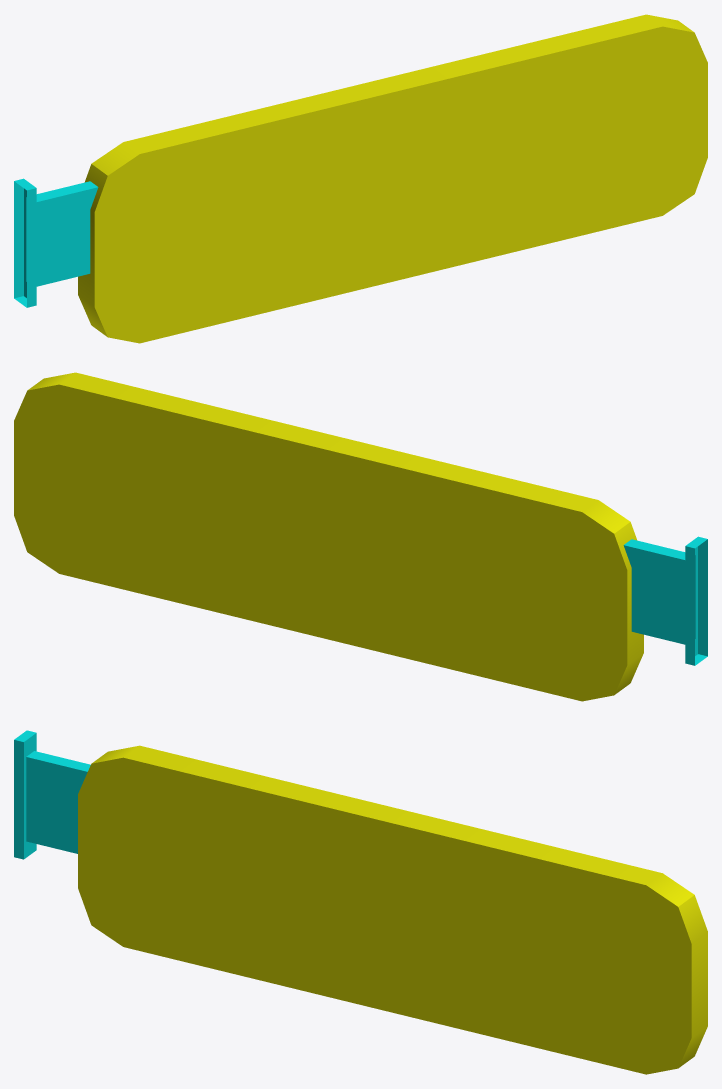
File: StationSign.fbx
3 renders of one model, top to bottom at view 1: azimuth 30°, elevation 25°; view 2: azimuth 150°, elevation 25°; view 3: azimuth 330°, elevation 25°, orthographic.
Visible parts, largest first — view 1: LOW_Accesorios_letrero_estacion; view 2: LOW_Accesorios_letrero_estacion; view 3: LOW_Accesorios_letrero_estacion.
Part boxes in pixels (x1=…): LOW_Accesorios_letrero_estacion: x1=14, y1=14, x2=707, y2=343; LOW_Accesorios_letrero_estacion: x1=14, y1=372, x2=707, y2=701; LOW_Accesorios_letrero_estacion: x1=14, y1=730, x2=707, y2=1074.
Size of the model in its own units: 22.29 by 5.94 by 0.9359.
